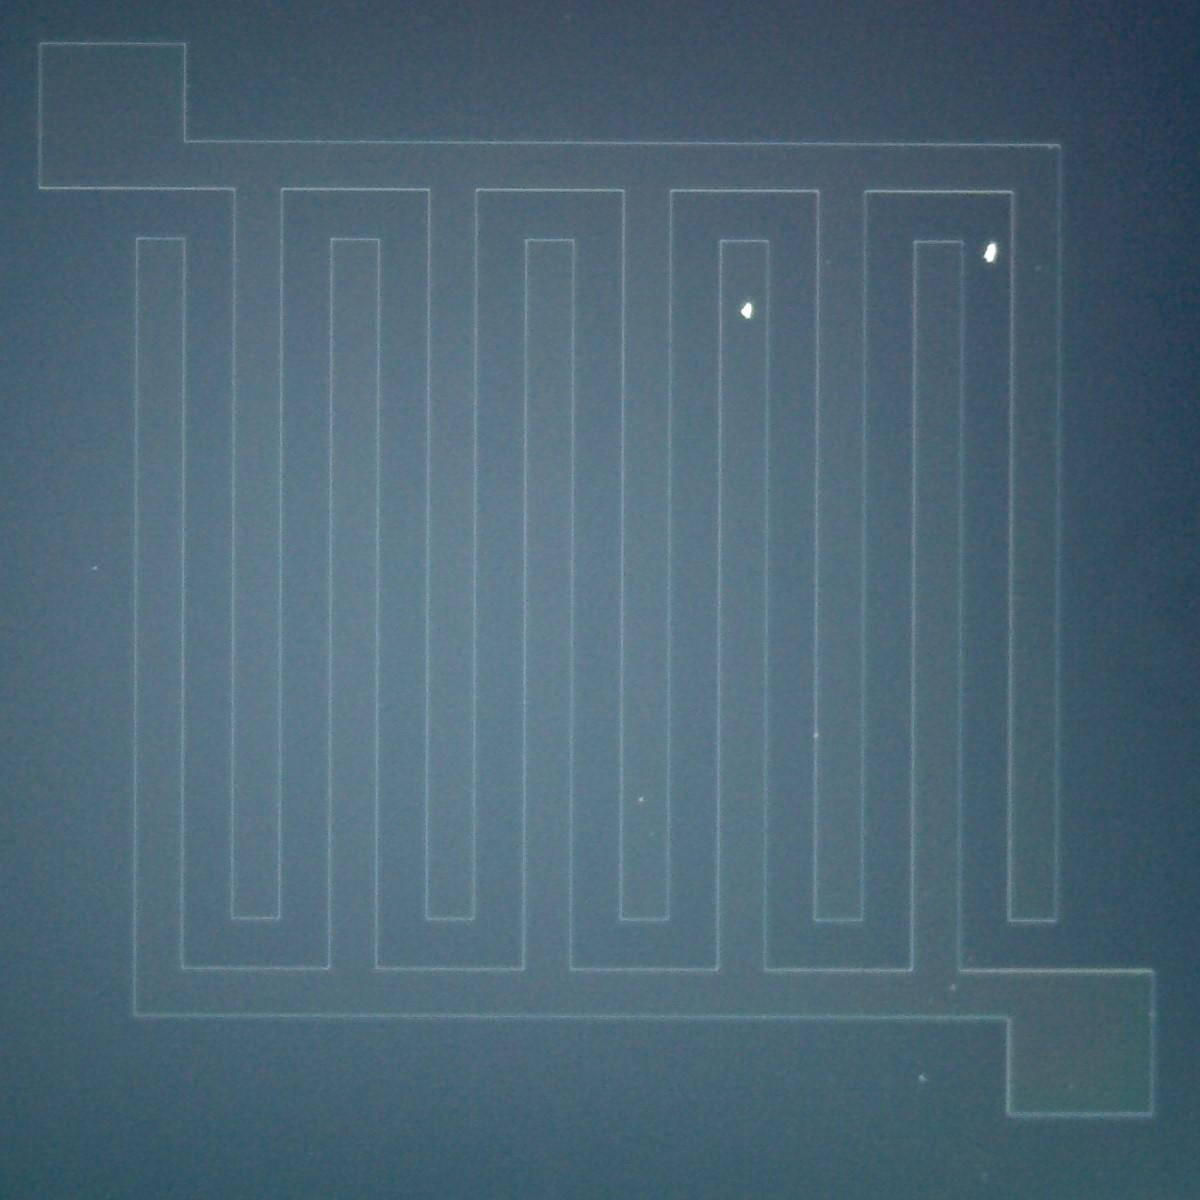B_point: (980, 233, 1005, 270), (737, 293, 758, 330)
s_point: (955, 938, 987, 977), (965, 1158, 999, 1190), (1054, 1069, 1087, 1100), (909, 1064, 932, 1093), (941, 977, 967, 1000), (631, 787, 652, 812), (640, 824, 662, 847), (1027, 259, 1048, 280), (820, 252, 837, 271), (808, 729, 823, 743), (89, 562, 102, 577)
